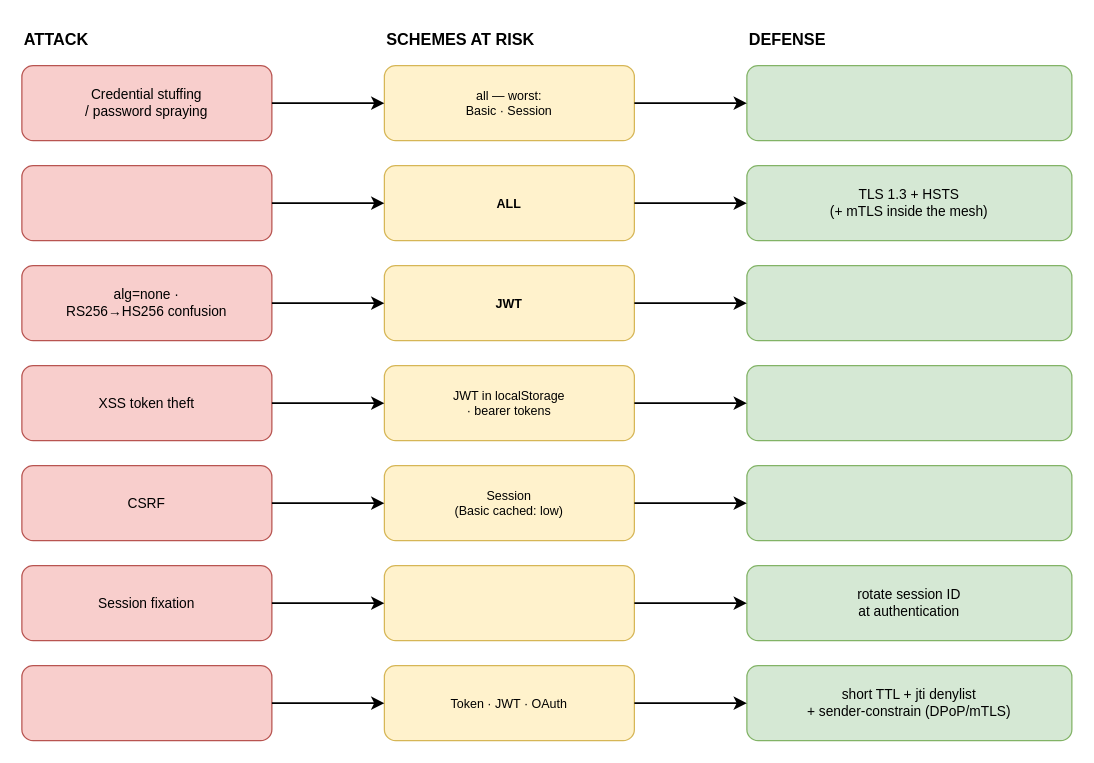
The diagram is 1094 pixels wide and 763 high, and some of its shapes have lost their labels. The centre of each missing label's shape, as x and y in pixels:
HttpOnly SameSite cookie or BFF pattern: point (909, 402)
pin alg server-side + JWKS + reject none: point (909, 302)
rate limit + per-account backoff + MFA: point (909, 102)
Replay of stolen bearer token: point (146, 702)
SameSite + synchronizer token + Origin check: point (909, 502)
Session: point (508, 602)
Sniffing / MITM: point (146, 202)
